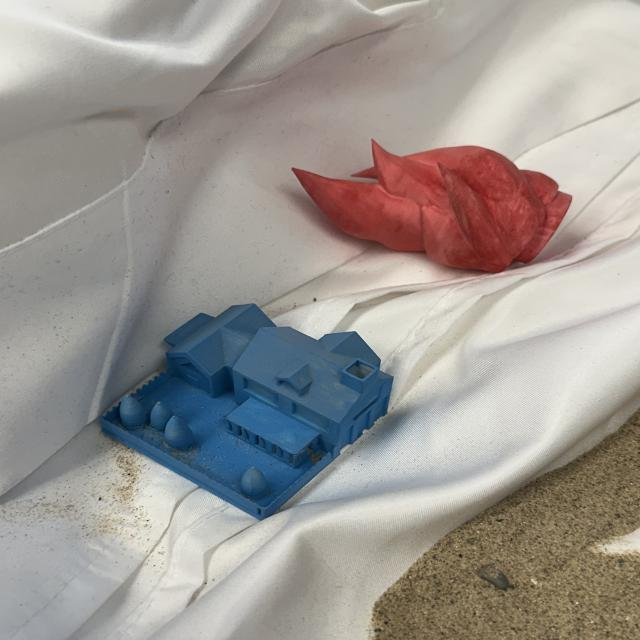fire: (291, 138, 574, 274)
house: (98, 302, 395, 521)
